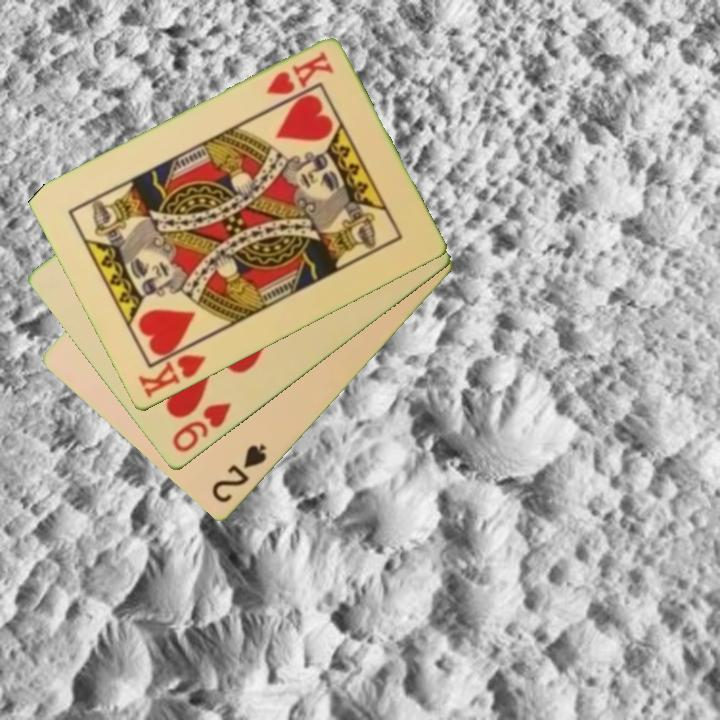2s: (208, 441, 270, 507)
9h: (168, 399, 234, 456)
Kh: (134, 338, 209, 402), (262, 48, 337, 99)
